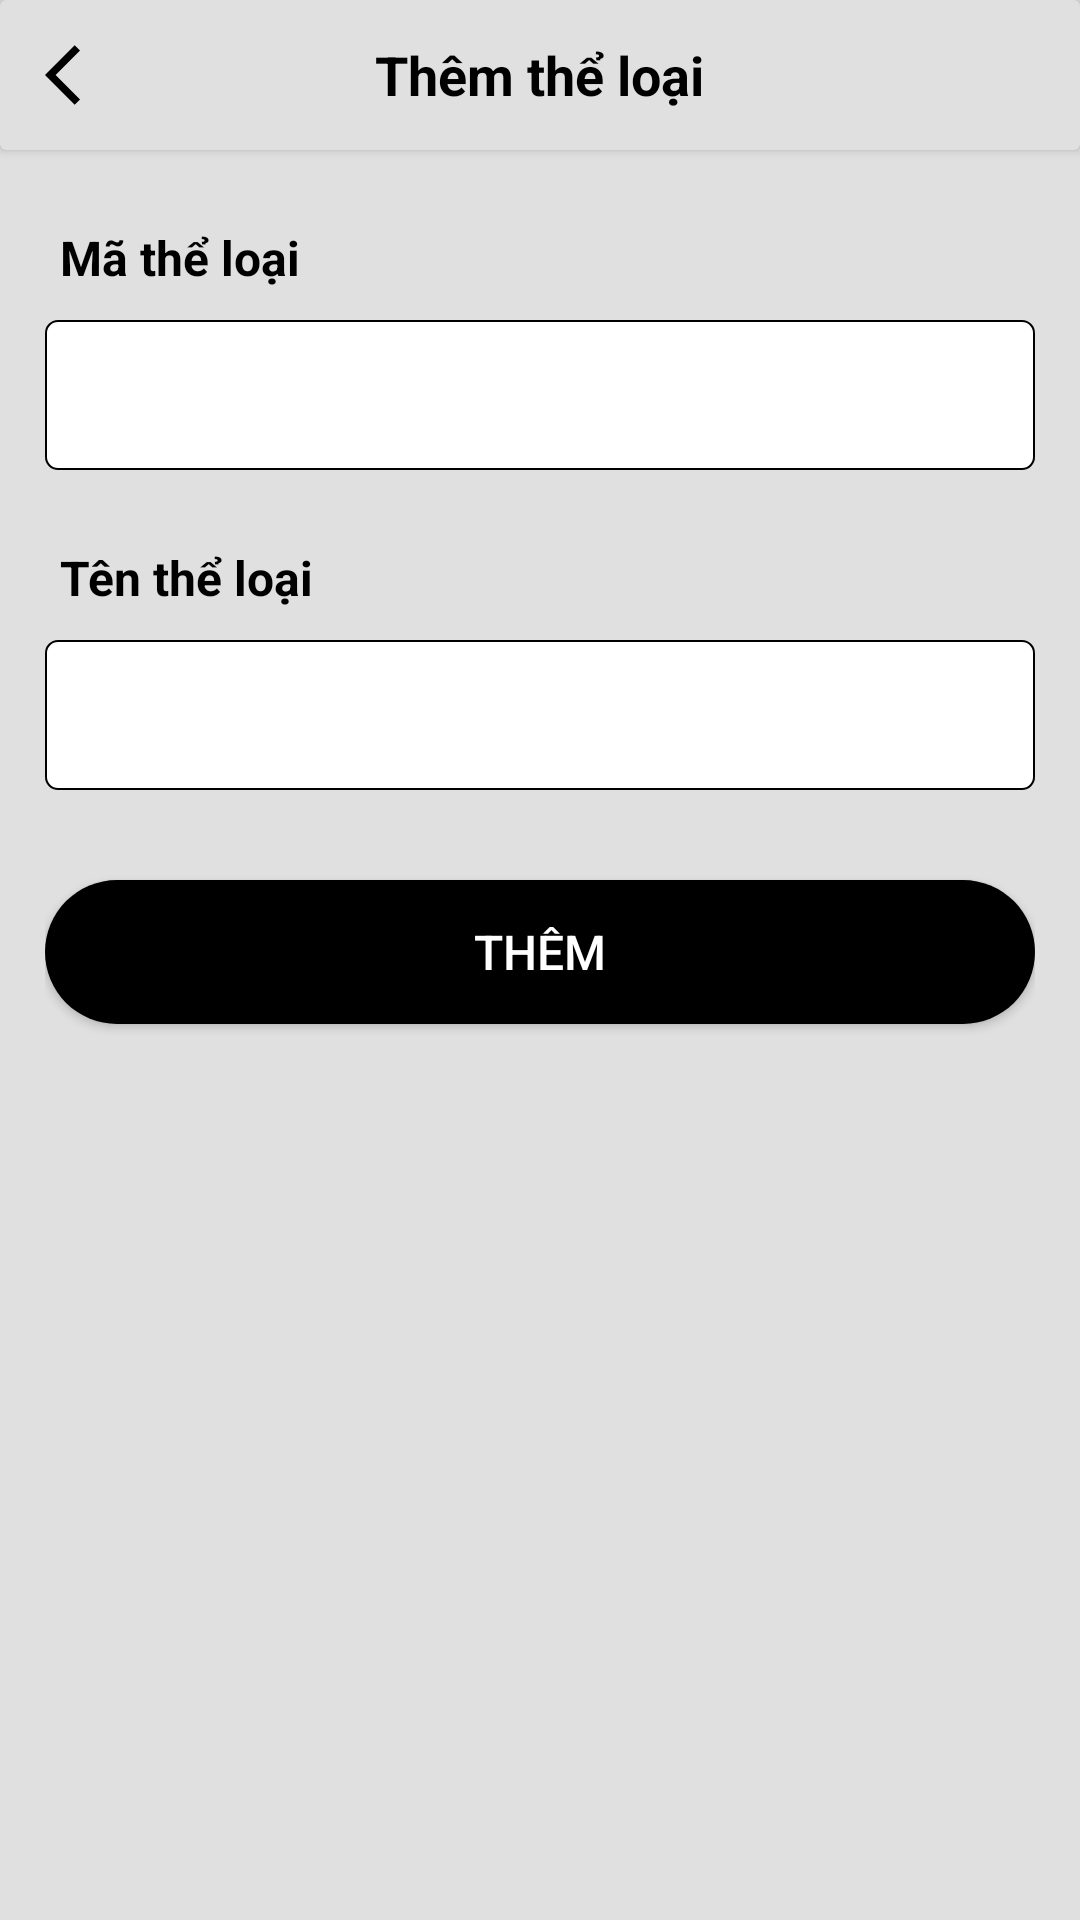

Icon click points for this 1080px×1920px phone screenshot, format (x=x, y=y):
back arrow: (x=62, y=75)
